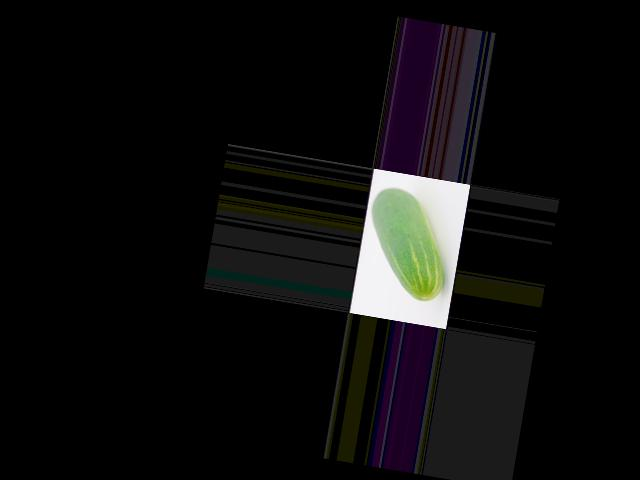cucumber: (358, 184, 457, 303)
